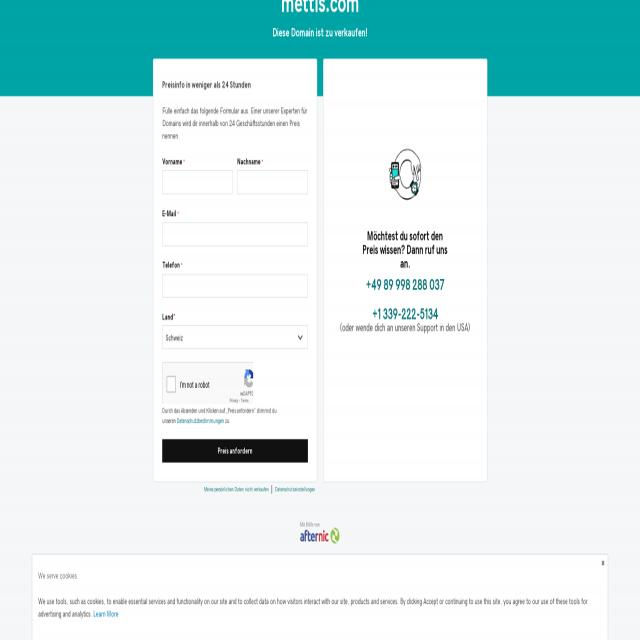button: (382, 136, 428, 214), (162, 439, 308, 463), (300, 522, 340, 544), (600, 560, 606, 569)
field: (162, 325, 307, 350), (162, 222, 308, 246), (162, 274, 308, 298), (237, 171, 308, 194), (162, 171, 232, 194), (167, 375, 175, 393)
